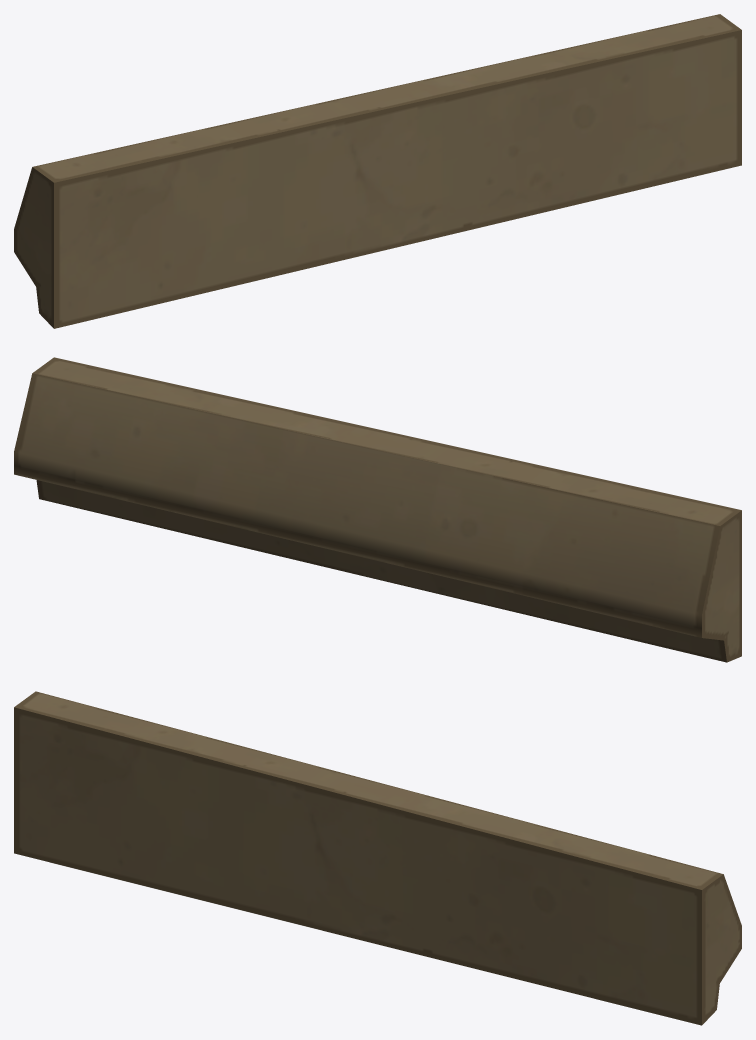
The model's file is SM_building_block_01.glb.
3 renders of one model, top to bottom at view 1: azimuth 30°, elevation 25°; view 2: azimuth 150°, elevation 25°; view 3: azimuth 330°, elevation 25°, orthographic.
Parts seen in each view (by area): view 1: SM_building_block_01; view 2: SM_building_block_01; view 3: SM_building_block_01.
Boxes of the visible parts, x1,y1,x2,y2 form: SM_building_block_01: (14,14,741,328); SM_building_block_01: (14,357,741,662); SM_building_block_01: (14,691,741,1025).
Size of the model in its own units: 1.5 by 0.3135 by 0.1513.
Materials: 1 (1 with a texture image).
